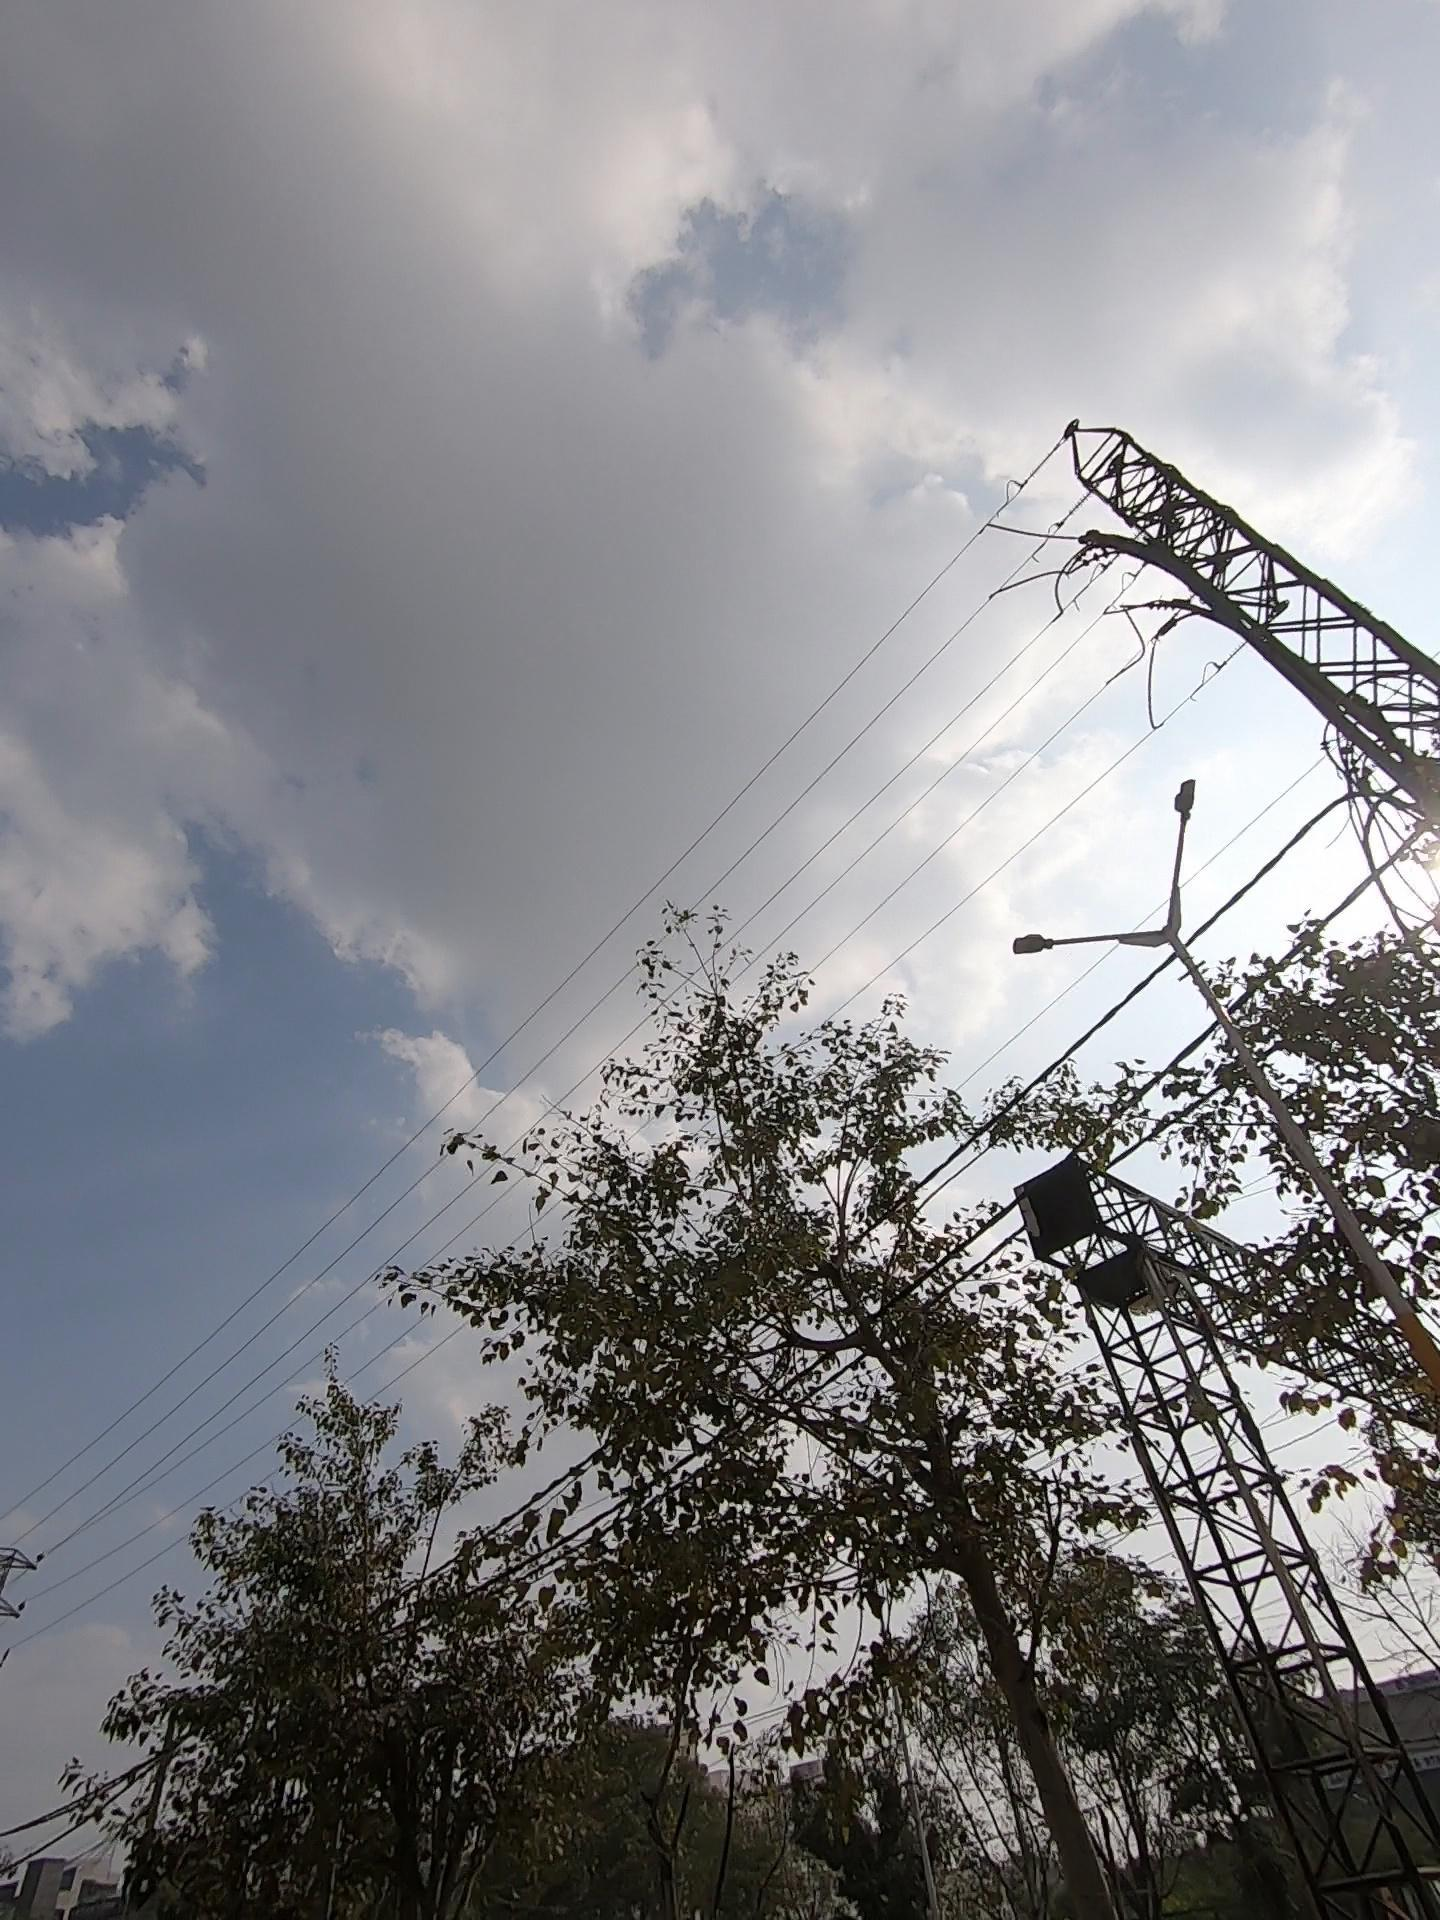off: (1045, 732, 1299, 980)
